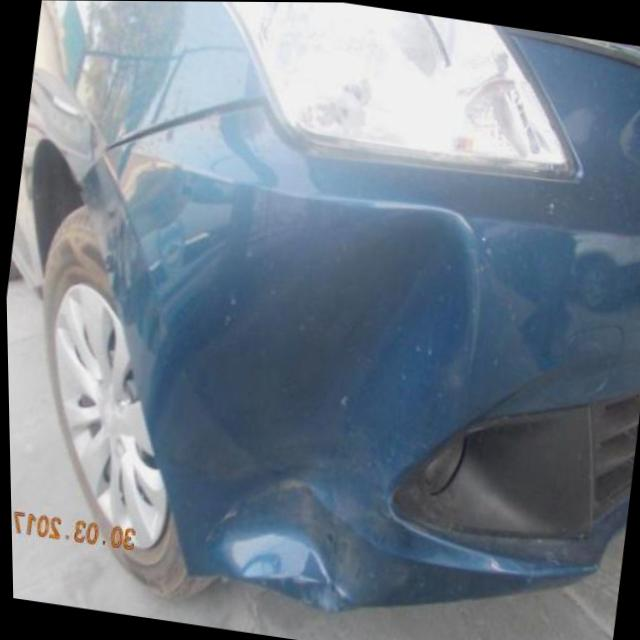Car-Damage: (125, 168, 495, 631), (76, 65, 263, 205)
